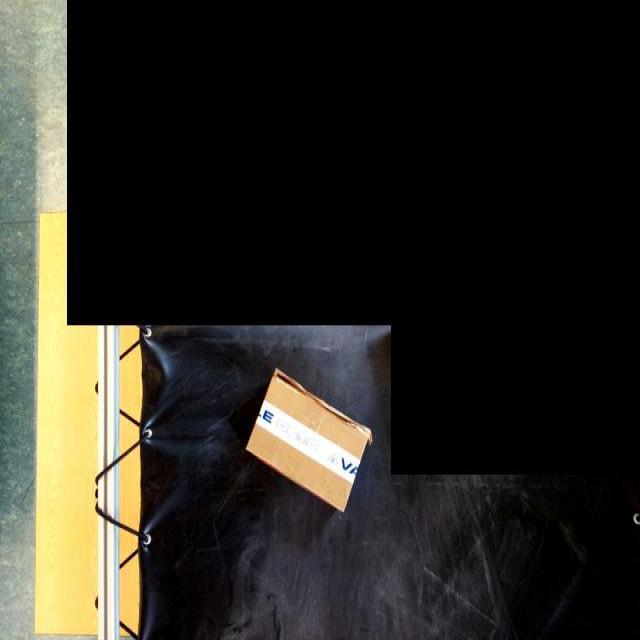Cardboard: (246, 361, 367, 517)
